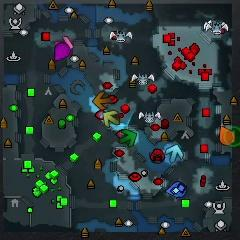Other: (225, 125, 240, 147)
p1: (165, 179, 189, 199)
p3: (53, 42, 71, 62)
p5: (219, 125, 237, 149)
x1: (55, 35, 74, 50)
x2: (103, 110, 120, 128)
x3: (166, 143, 185, 164)
x4: (118, 128, 137, 147)
x5: (94, 92, 112, 110)
